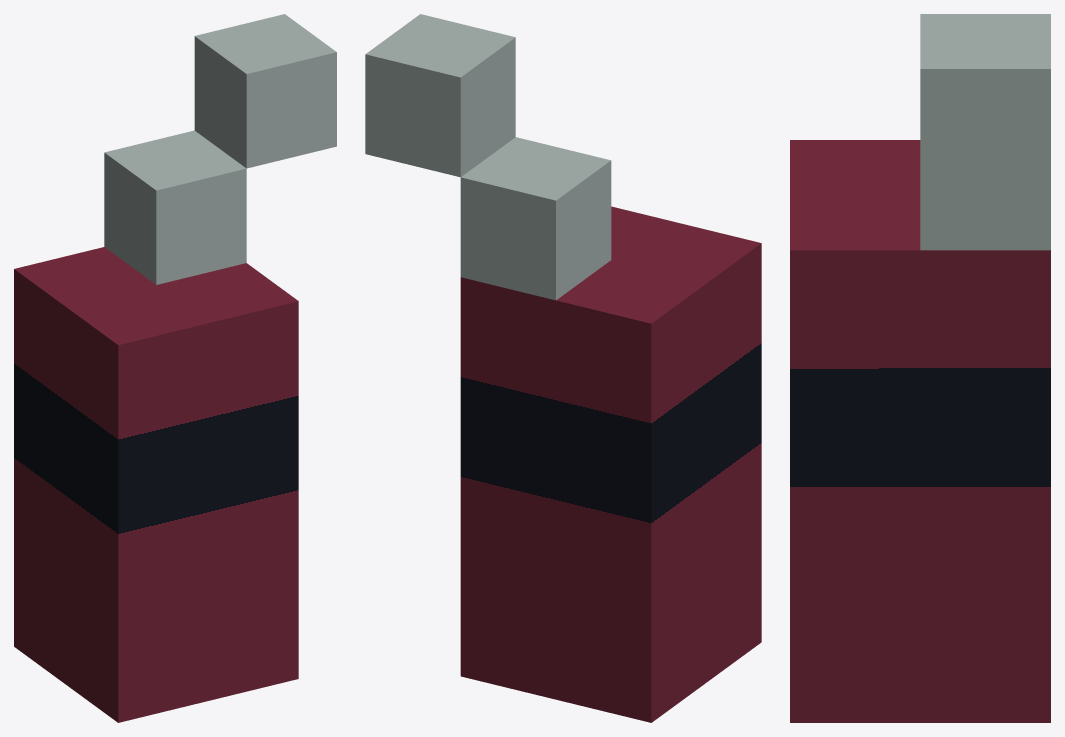
Rendered from dynamite_02.fbx.
The picture shows the model from 3 angles, left to right: view 1: azimuth 30°, elevation 25°; view 2: azimuth 150°, elevation 25°; view 3: azimuth 270°, elevation 25°; orthographic projection. The views are drawn at different scales.
Parts seen in each view (by area): view 1: dynamite_02_0; view 2: dynamite_02_0; view 3: dynamite_02_0.
Part boxes in pixels (<box>): dynamite_02_0: <box>14,14,336,722</box>; dynamite_02_0: <box>365,14,761,722</box>; dynamite_02_0: <box>790,14,1050,722</box>.
Bounding box in the file's own units: 300 × 200 × 600.
